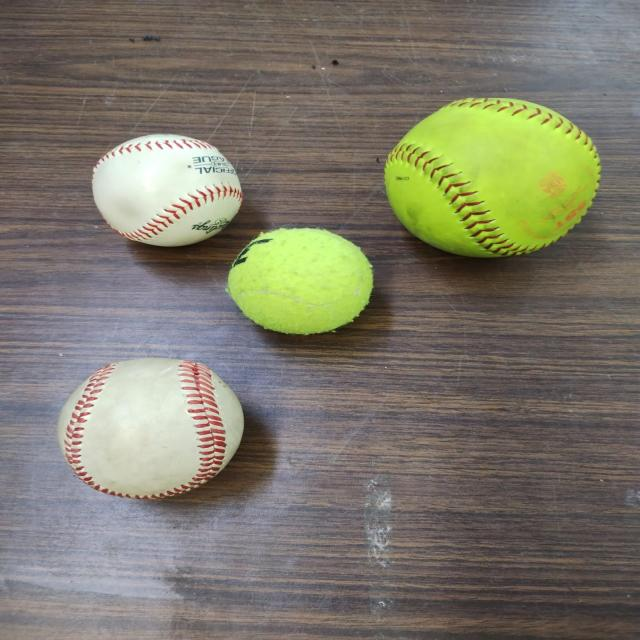beisbol ball: (50, 355, 254, 503), (90, 135, 243, 247)
softball ball: (386, 100, 602, 258)
tenis ball: (225, 227, 376, 333)
